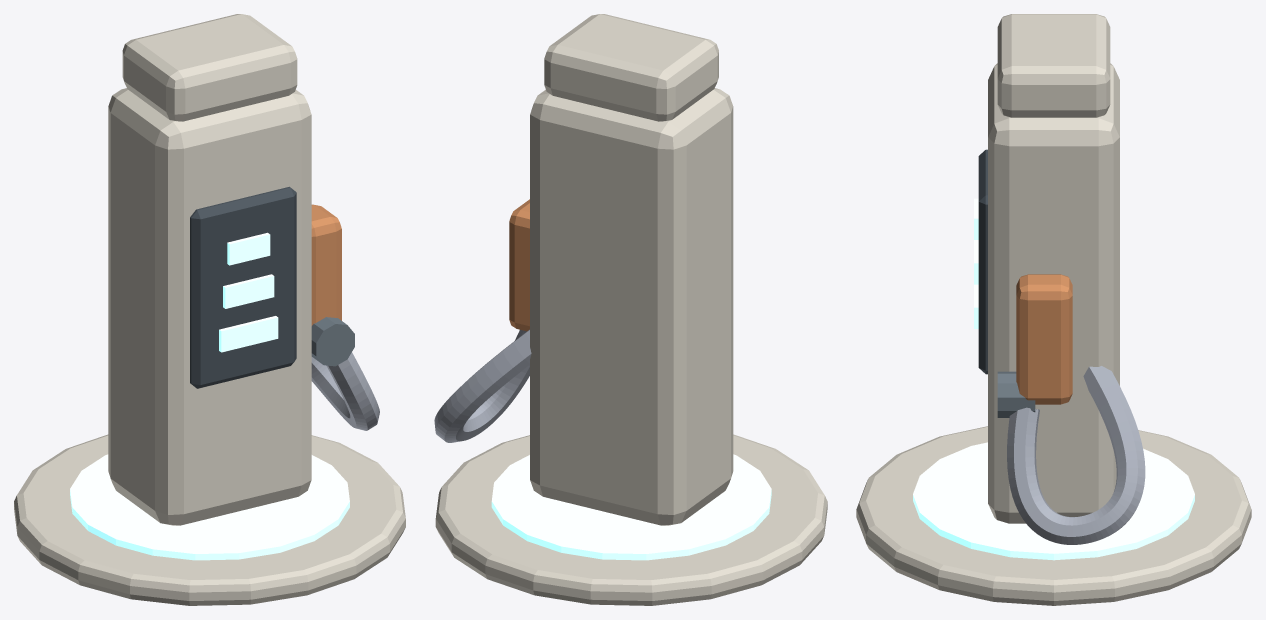
The model's file is tesla-charging.glb.
The picture shows the model from 3 angles, left to right: view 1: azimuth 30°, elevation 25°; view 2: azimuth 150°, elevation 25°; view 3: azimuth 270°, elevation 25°; orthographic projection.
Parts seen in each view (by area): view 1: ChargerBody, ChargePad, Screen, GlowRing, ChargerCap, Handle, Cable, HandleTip, Bar0, Bar1, Bar2; view 2: ChargerBody, ChargePad, GlowRing, ChargerCap, Cable, Handle; view 3: ChargerBody, ChargePad, GlowRing, ChargerCap, Cable, Handle, Screen, HandleTip.
Boxes of the visible parts, x1,y1,x2,y2 form: ChargerBody: [108, 88, 311, 525]; ChargePad: [14, 434, 405, 605]; Screen: [190, 186, 296, 388]; GlowRing: [70, 454, 349, 560]; ChargerCap: [122, 14, 297, 121]; Handle: [311, 204, 341, 325]; Cable: [311, 352, 379, 430]; HandleTip: [311, 317, 354, 366]; Bar0: [219, 316, 278, 352]; Bar1: [223, 274, 274, 308]; Bar2: [227, 232, 270, 265]; ChargerBody: [530, 88, 733, 525]; ChargePad: [435, 434, 827, 605]; GlowRing: [491, 454, 771, 560]; ChargerCap: [544, 14, 718, 121]; Cable: [434, 329, 531, 442]; Handle: [509, 199, 529, 331]; ChargerBody: [988, 63, 1119, 523]; ChargePad: [856, 426, 1251, 605]; GlowRing: [913, 442, 1194, 560]; ChargerCap: [997, 14, 1110, 117]; Cable: [1007, 366, 1145, 544]; Handle: [1016, 274, 1072, 404]; Screen: [978, 149, 987, 374]; HandleTip: [997, 371, 1035, 417].
Size of the model in its own units: 0.84 by 1.14 by 0.84.
